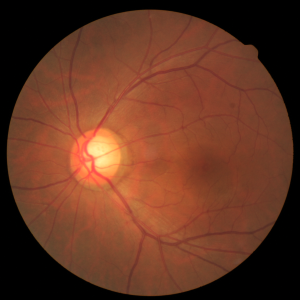glaucoma: (37, 104, 229, 220)
